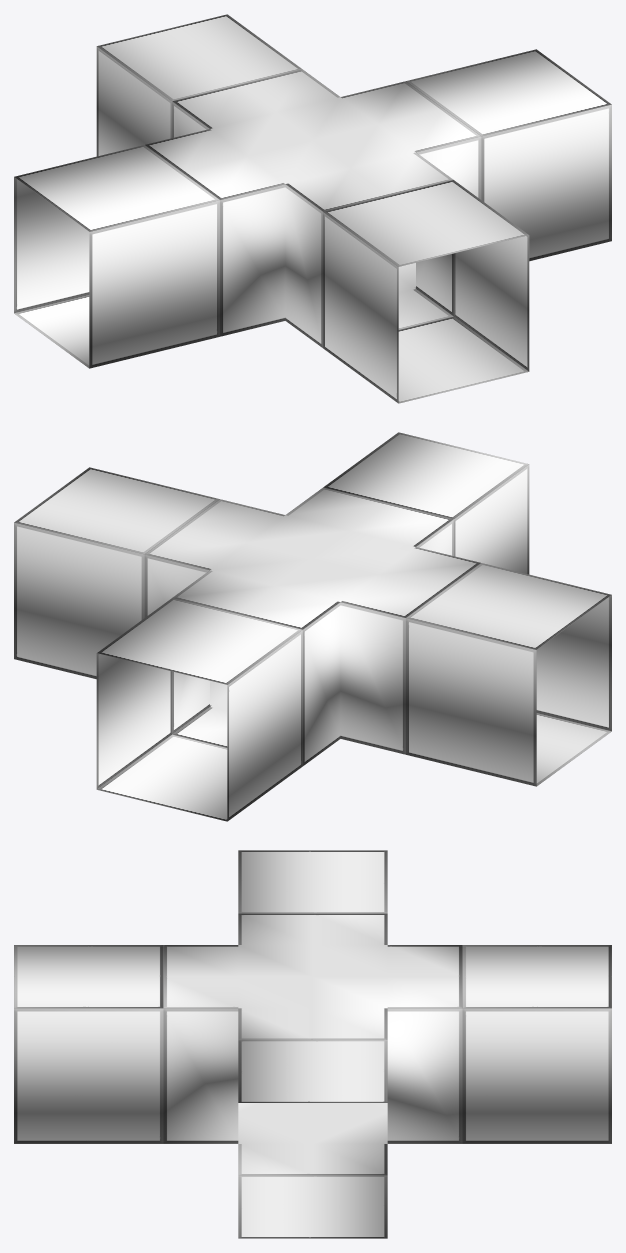
Rendered from corridor.fbx.
3 renders of one model, top to bottom at view 1: azimuth 30°, elevation 25°; view 2: azimuth 150°, elevation 25°; view 3: azimuth 270°, elevation 25°, orthographic.
Parts seen in each view (by area): view 1: Plane; view 2: Plane; view 3: Plane.
Boxes of the visible parts, x1=… form: Plane: x1=14, y1=14, x2=611, y2=403; Plane: x1=14, y1=432, x2=611, y2=821; Plane: x1=14, y1=850, x2=611, y2=1238.
Bounding box in the file's own units: 16 × 4 × 16.
